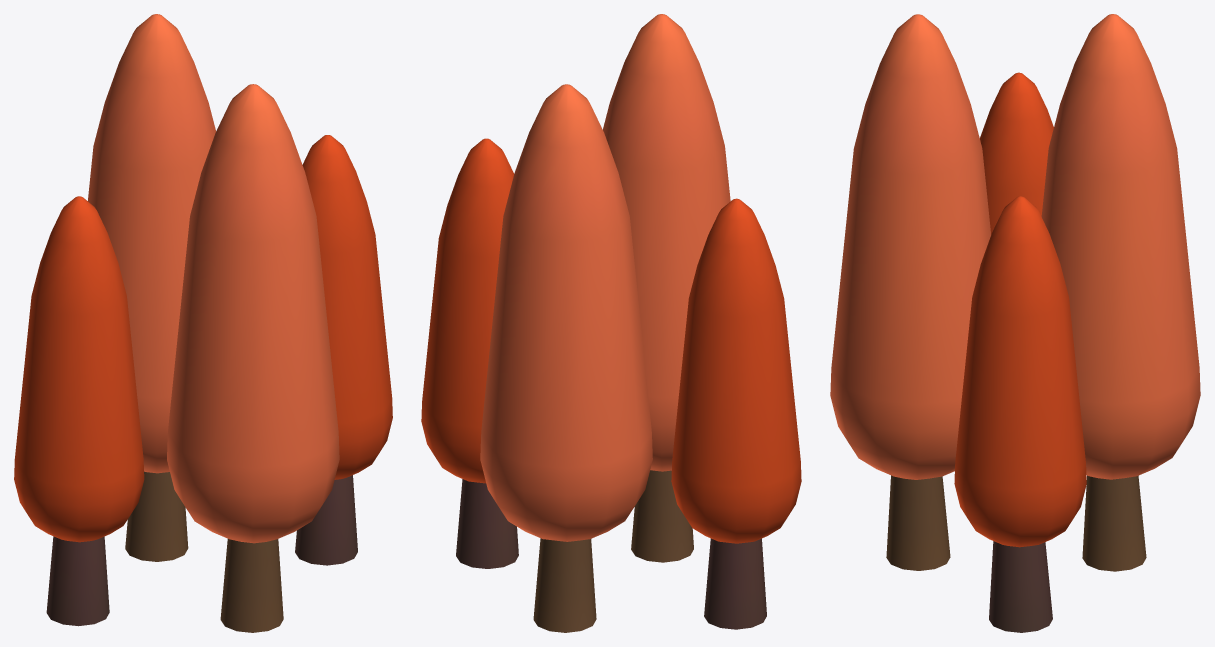
Rendered from pack-tree-04.glb.
The picture shows the model from 3 angles, left to right: view 1: azimuth 30°, elevation 25°; view 2: azimuth 150°, elevation 25°; view 3: azimuth 270°, elevation 25°; orthographic projection.
Parts seen in each view (by area): view 1: pack tree 04; view 2: pack tree 04; view 3: pack tree 04.
Boxes of the visible parts, x1,y1,x2,y2 form: pack tree 04: (14,14,392,632); pack tree 04: (421,14,801,632); pack tree 04: (830,14,1200,632).
Size of the model in its own units: 2.93 by 4.14 by 2.55.
1 material, 1 textured.
